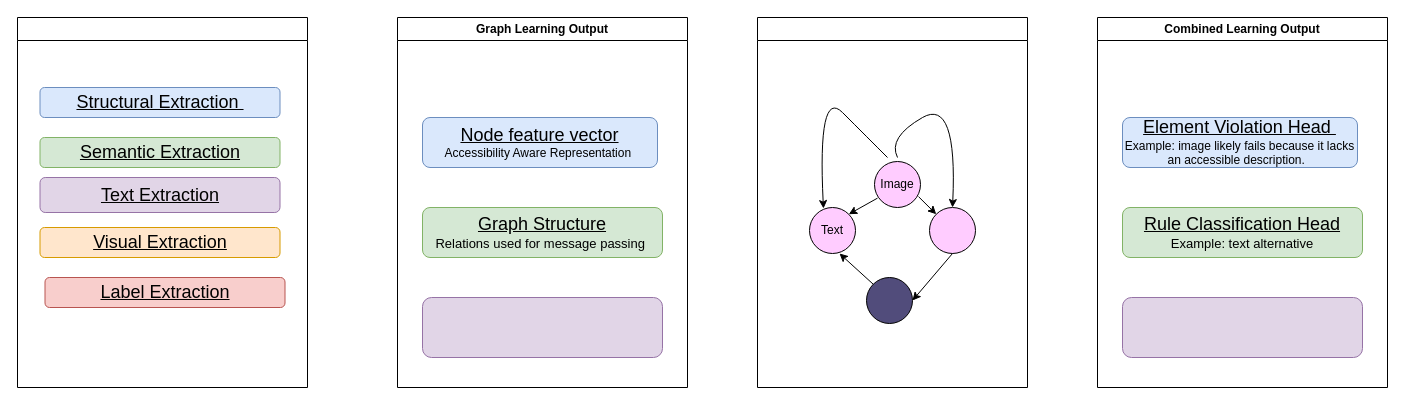
This 1405x405 diagram has some shape labels left out. Here are the shapes that lost their labels. From the top down, the box of each, then its label:
(16, 16, 308, 388): Accessibility Information Extracted
(756, 16, 1028, 388): Graph Views
(928, 206, 976, 254): Button
(866, 276, 912, 324): Form Region
(422, 296, 662, 358): Weak labels Element, Rule, and Page Supervision
(1122, 296, 1362, 358): Page Classification Head Example: page contains at least one violation
